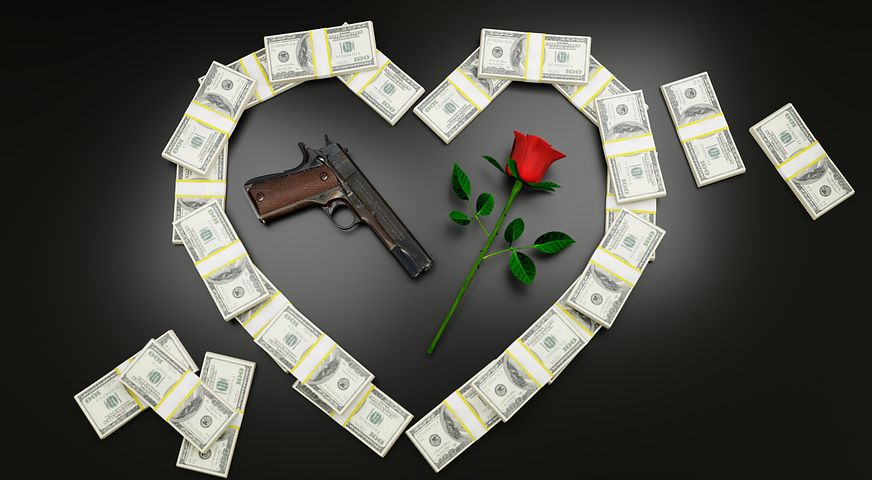gun: (240, 128, 440, 288)
